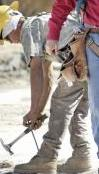boots: (14, 153, 58, 174), (57, 155, 96, 173)
hard-hat: (0, 3, 23, 39)
